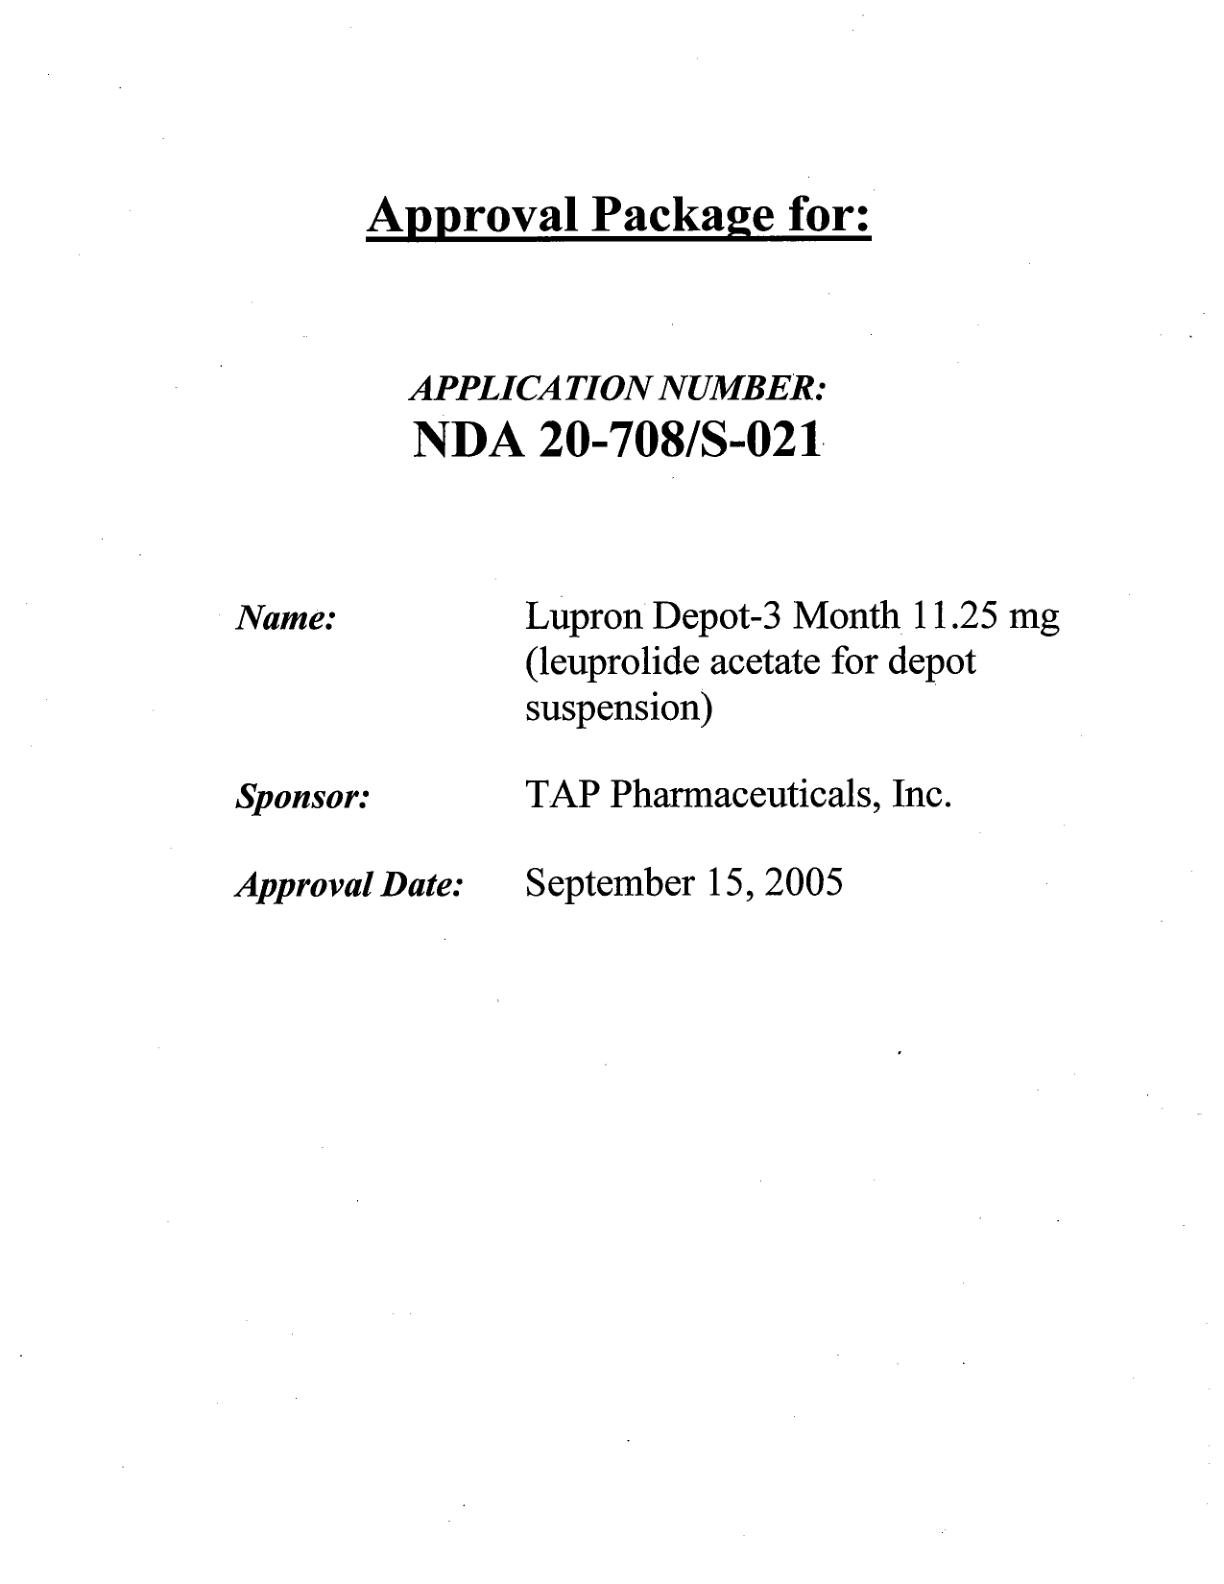nolines: (224, 593, 1065, 909)
